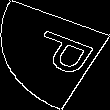P_SE: (14, 28, 96, 82)
